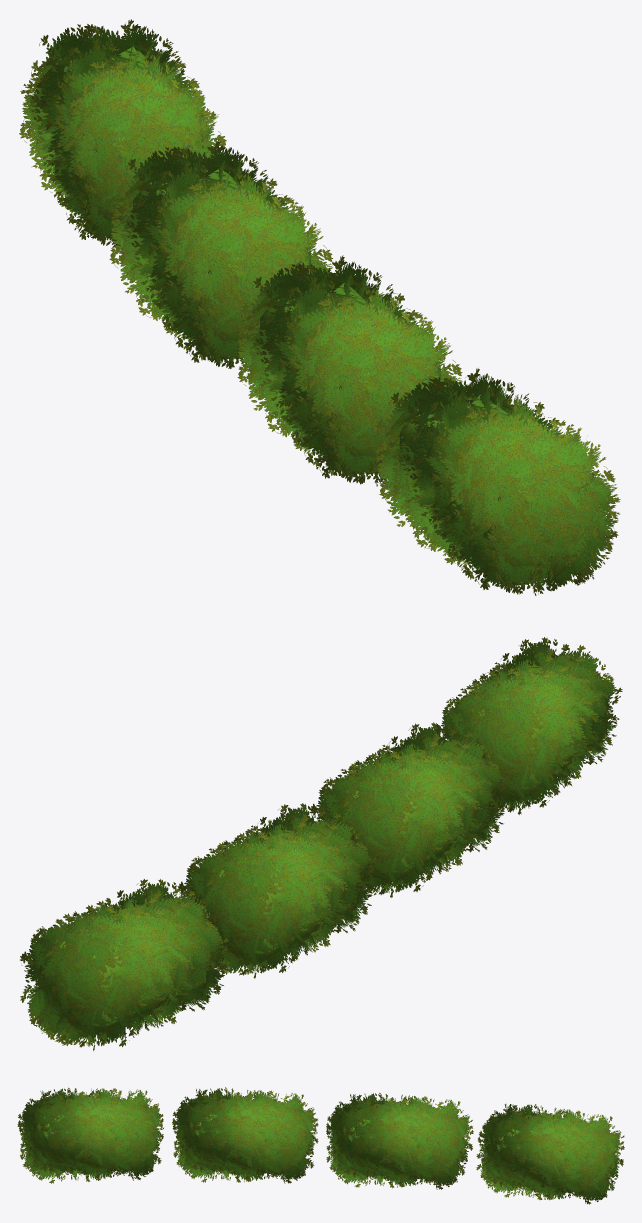
The model's file is SM_Bush06_Splines_5.fbx.
The picture shows the model from 3 angles, top to bottom: view 1: azimuth 30°, elevation 25°; view 2: azimuth 150°, elevation 25°; view 3: azimuth 270°, elevation 25°; orthographic projection. The views are drawn at different scales.
Parts seen in each view (by area): view 1: SM_Bush06_Splines_5_LOD0; view 2: SM_Bush06_Splines_5_LOD0; view 3: SM_Bush06_Splines_5_LOD0.
Part boxes in pixels (box(x1,y1,x2,y2)): SM_Bush06_Splines_5_LOD0: box(19, 19, 620, 595); SM_Bush06_Splines_5_LOD0: box(20, 637, 622, 1051); SM_Bush06_Splines_5_LOD0: box(17, 1087, 624, 1204).
Size of the model in its own units: 257 by 1046 by 166.
